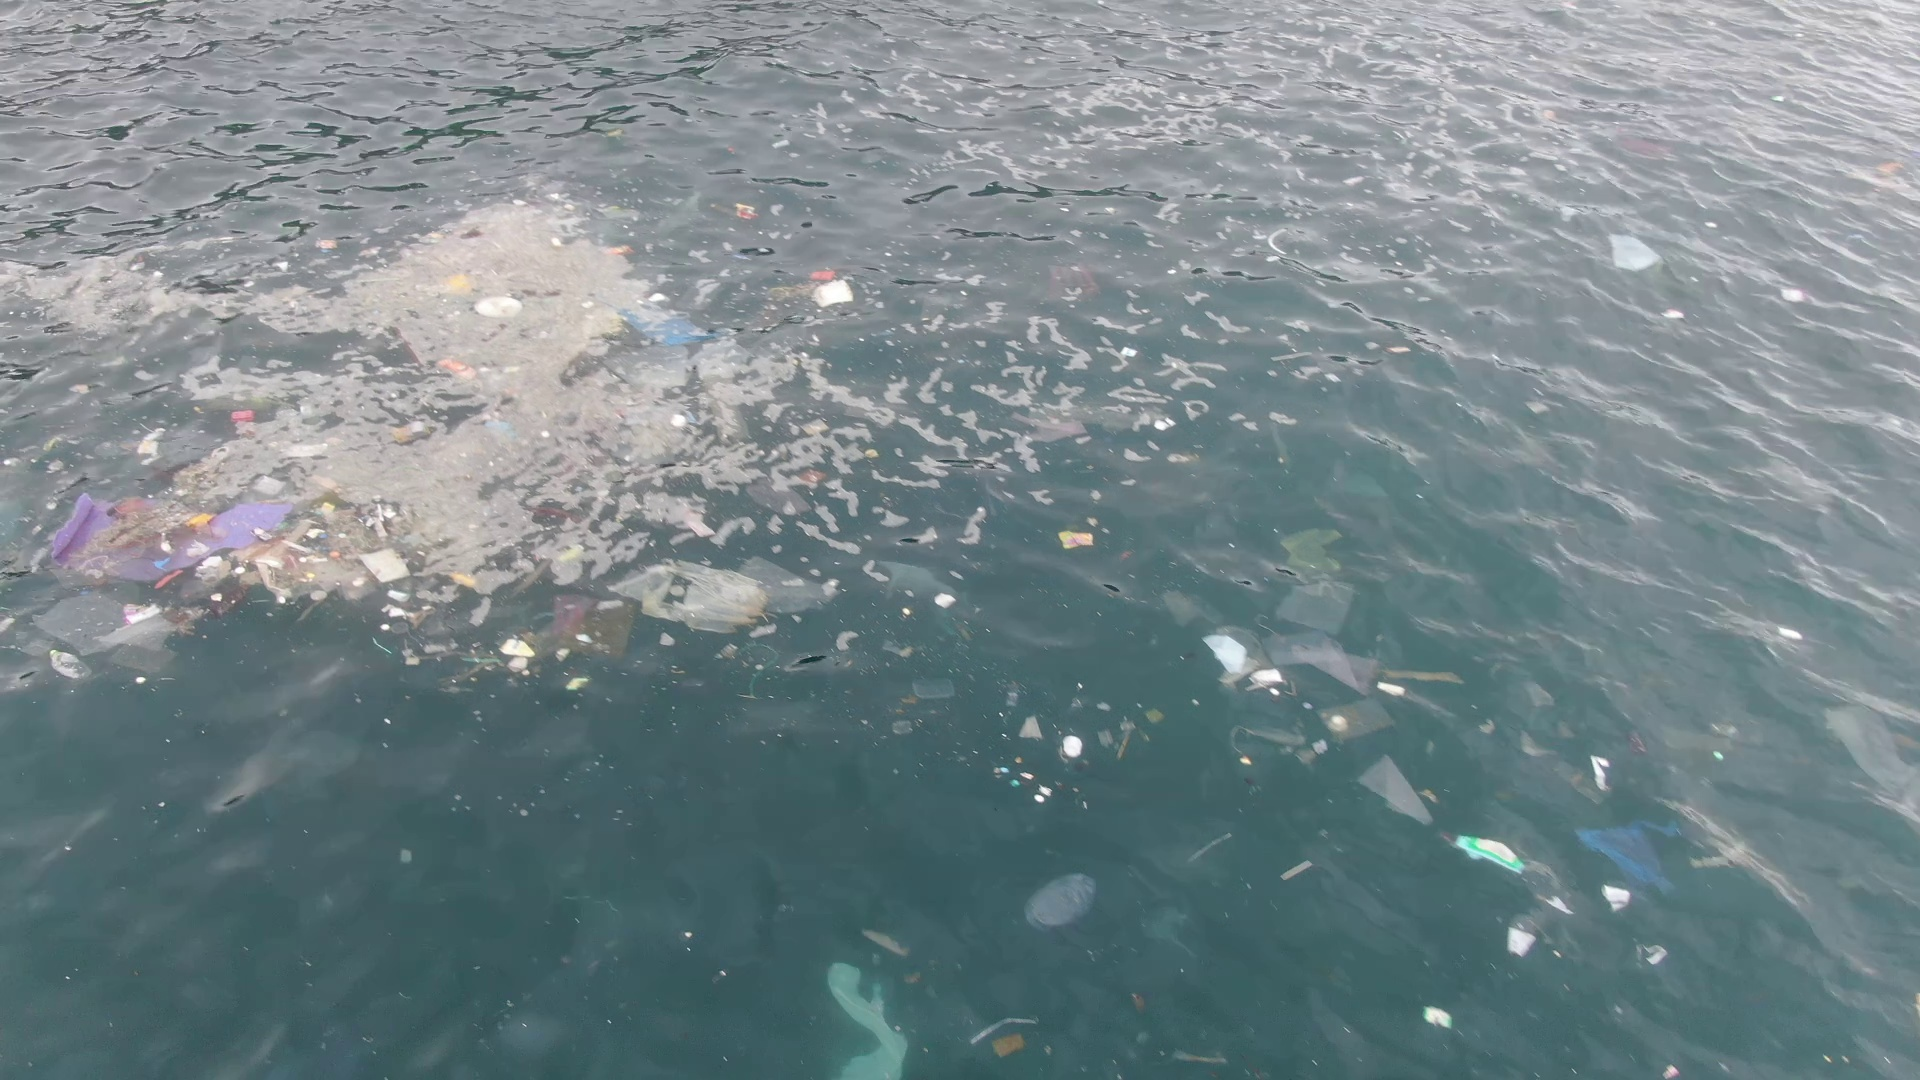bottle: (46, 647, 100, 683)
garbage: (37, 492, 477, 633), (617, 560, 843, 629), (477, 593, 637, 688), (823, 957, 909, 1080), (1575, 818, 1687, 895), (1203, 626, 1288, 695), (1356, 753, 1433, 825), (617, 293, 721, 345), (866, 559, 963, 607), (1275, 580, 1357, 636), (1026, 869, 1097, 927), (1229, 724, 1327, 764), (1317, 694, 1396, 742), (735, 477, 820, 516), (992, 758, 1058, 804), (1448, 833, 1522, 874), (971, 1015, 1036, 1060), (800, 266, 856, 315), (430, 353, 535, 378), (1160, 588, 1225, 626), (1604, 233, 1664, 272), (1098, 719, 1135, 758), (471, 294, 524, 320), (1383, 667, 1465, 683), (1506, 926, 1539, 959), (1636, 942, 1669, 975), (1058, 526, 1098, 553), (1418, 1007, 1461, 1031), (386, 418, 429, 442), (136, 427, 165, 458), (596, 204, 641, 220), (1018, 713, 1042, 738), (1063, 735, 1083, 756), (607, 241, 634, 256), (735, 202, 757, 219), (314, 236, 340, 249), (229, 409, 256, 421), (1146, 707, 1164, 723)
